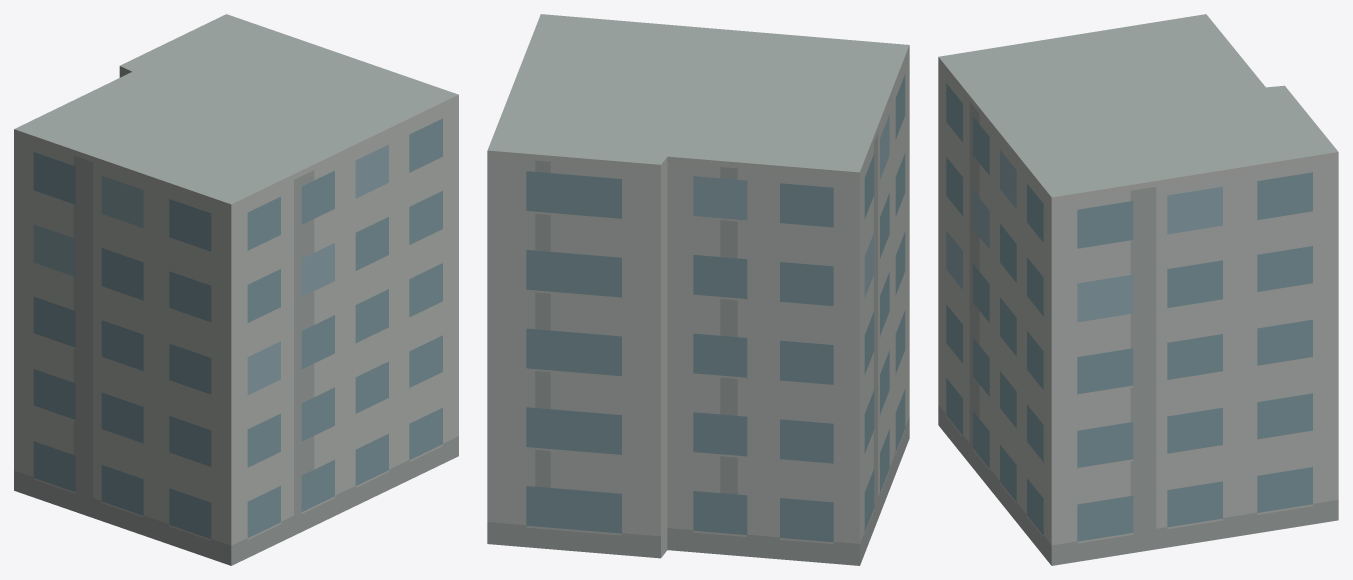
The model's file is survey-upis-32865606.glb.
3 views of the same model, side by side, from view 1: azimuth 30°, elevation 25°; view 2: azimuth 150°, elevation 25°; view 3: azimuth 270°, elevation 25° (orthographic). The views are drawn at different scales.
Visible parts, largest first — view 1: survey-upis-32865606.tmp; view 2: survey-upis-32865606.tmp; view 3: survey-upis-32865606.tmp.
Boxes of the visible parts, x1=… form: survey-upis-32865606.tmp: x1=14, y1=14, x2=458, y2=565; survey-upis-32865606.tmp: x1=487, y1=14, x2=909, y2=565; survey-upis-32865606.tmp: x1=938, y1=14, x2=1338, y2=565.
Size of the model in its own units: 16.67 by 15.6 by 15.37.
